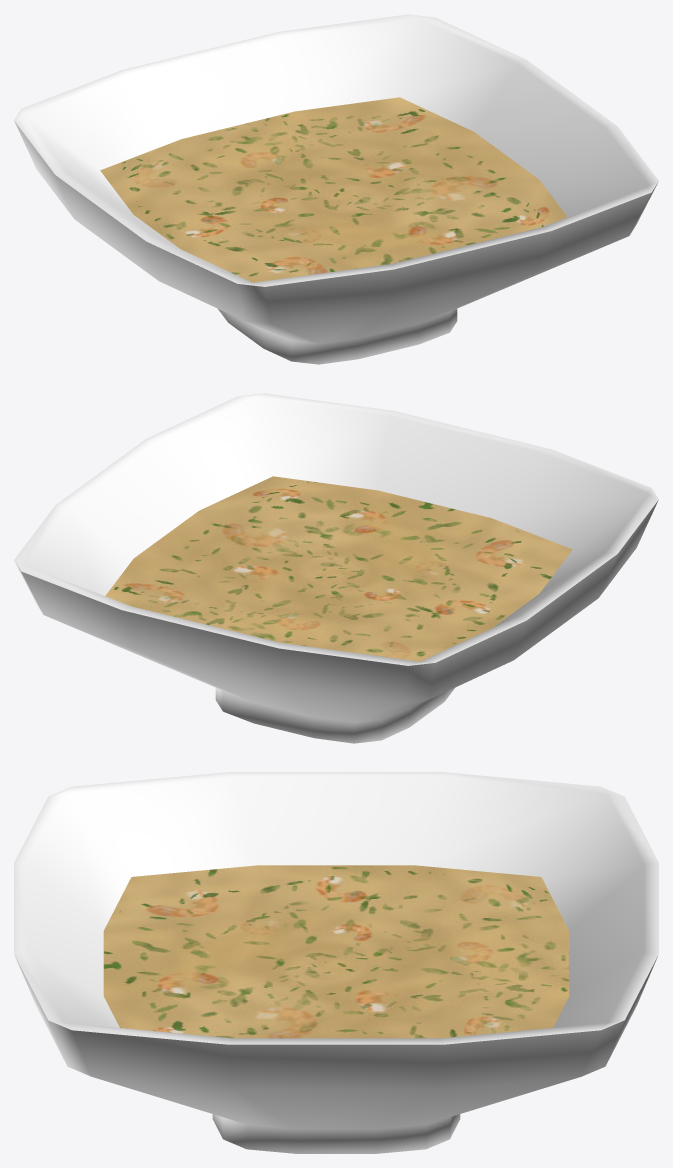
Rendered from SeafoodChowder.fbx.
3 renders of one model, top to bottom at view 1: azimuth 30°, elevation 25°; view 2: azimuth 150°, elevation 25°; view 3: azimuth 270°, elevation 25°, orthographic. The views are drawn at different scales.
Visible parts, largest first — view 1: Bowl1; view 2: Bowl1; view 3: Bowl1.
Part boxes in pixels (box(x1,y1,x2,y2)): Bowl1: box(14, 14, 658, 364); Bowl1: box(14, 393, 658, 743); Bowl1: box(14, 772, 658, 1153).
Size of the model in its own units: 42.14 by 13.91 by 42.14.
Materials: 2 (2 with a texture image).
